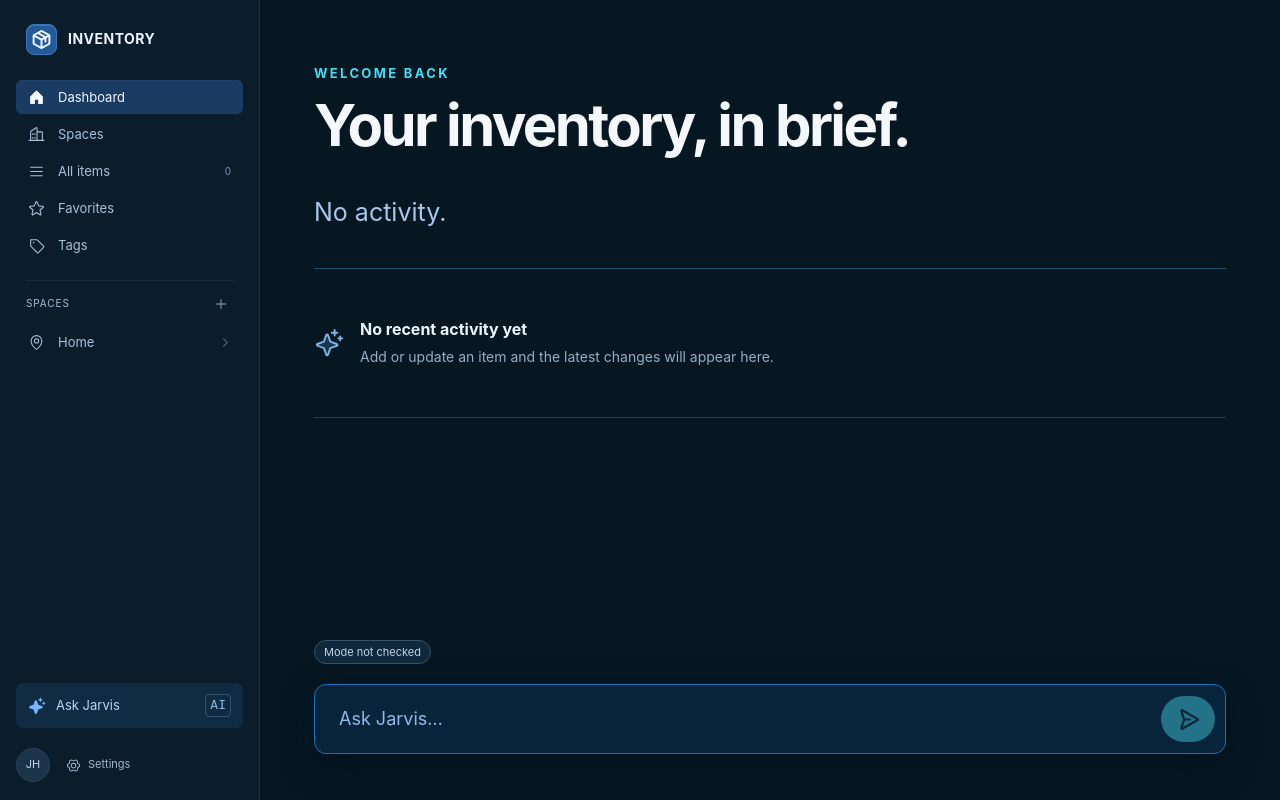
Test case: empty room offers a contextual unsaved Add with its full destination and no phantom on Cancel
The image size is (1280, 800).
Click the button "Home": (130, 342) [16,325,243,359]
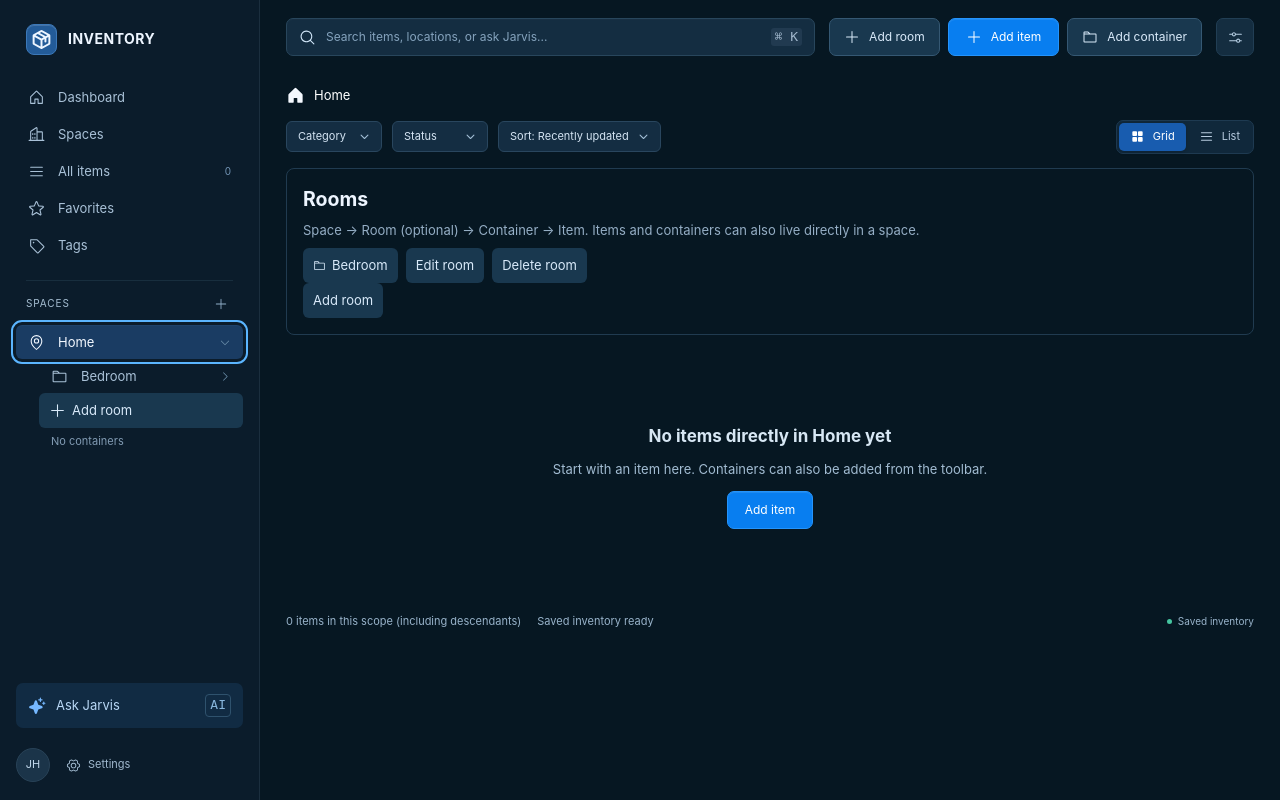
Click the 2nd button "Bedroom": (141, 376) [39,359,243,393]
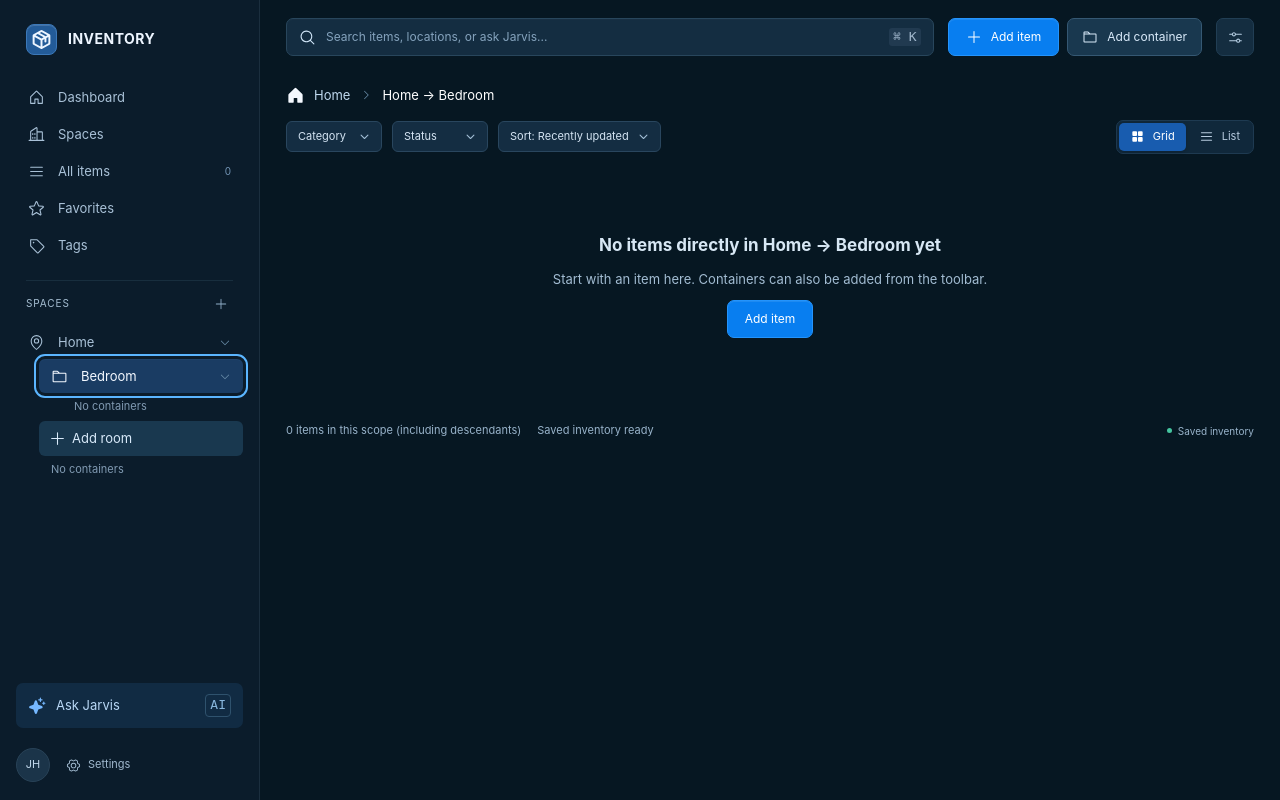
Check: the text "No items directly in Home → Bedroom yet" is shown, box [599,233,941,258]
Check: the number of buttons "Add item" is 1
Click the button "Add item" below "No items directly in Home → Bedroom yet": (770, 319) [727,300,813,338]
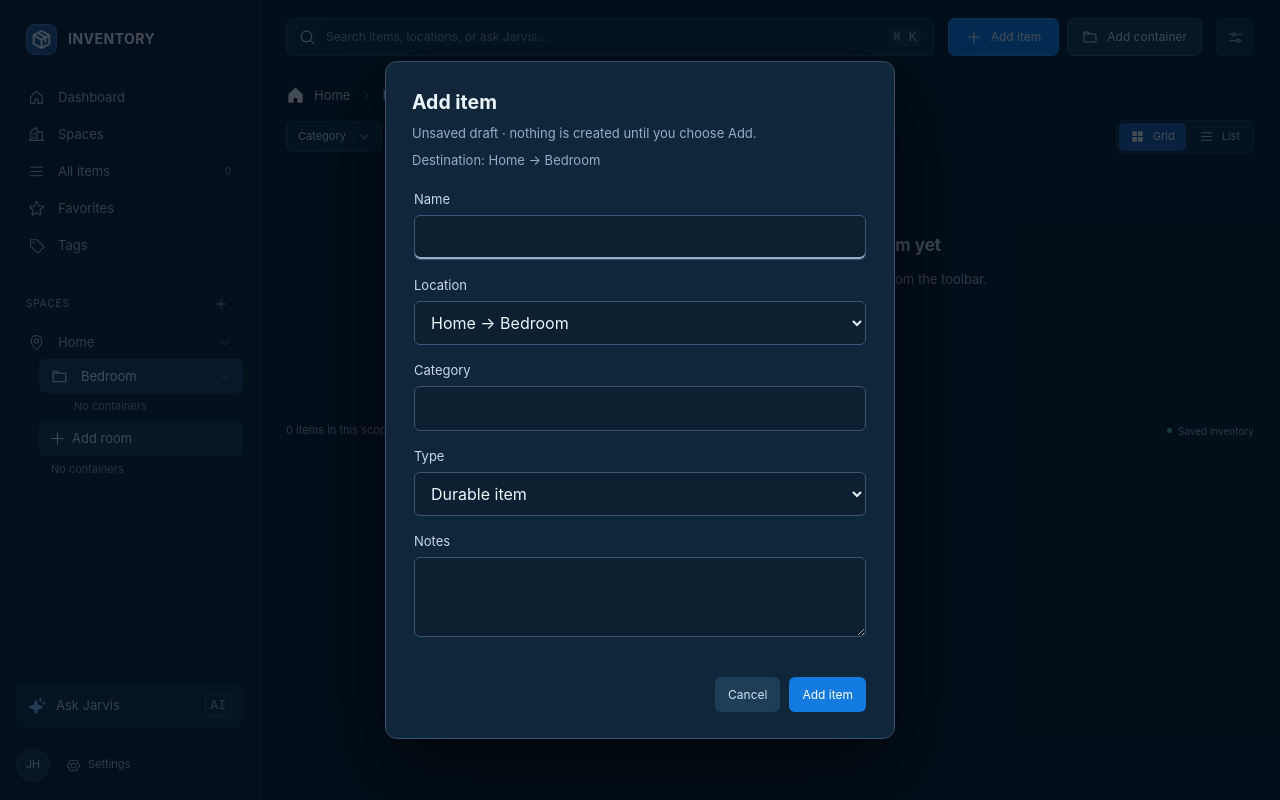
Click the button "Cancel": (748, 694) [715,677,780,712]
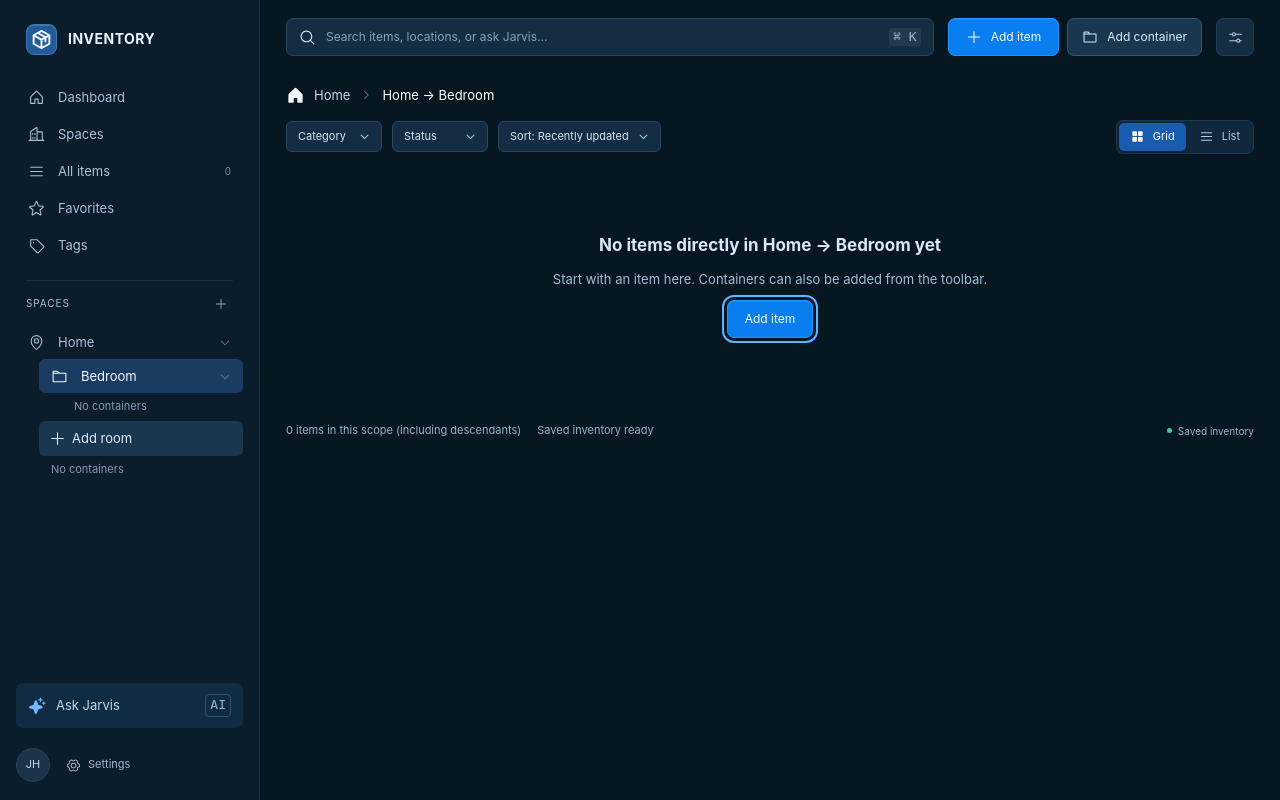
Check: the dialog is gone
